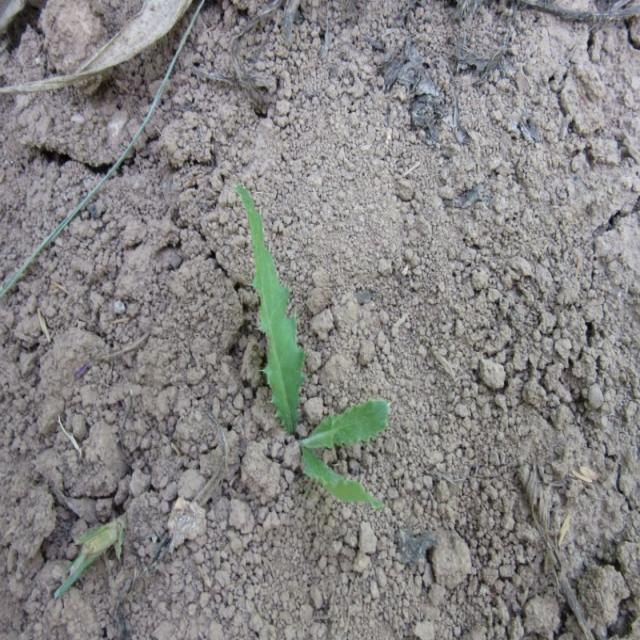field_thistle: (231, 159, 409, 520)
